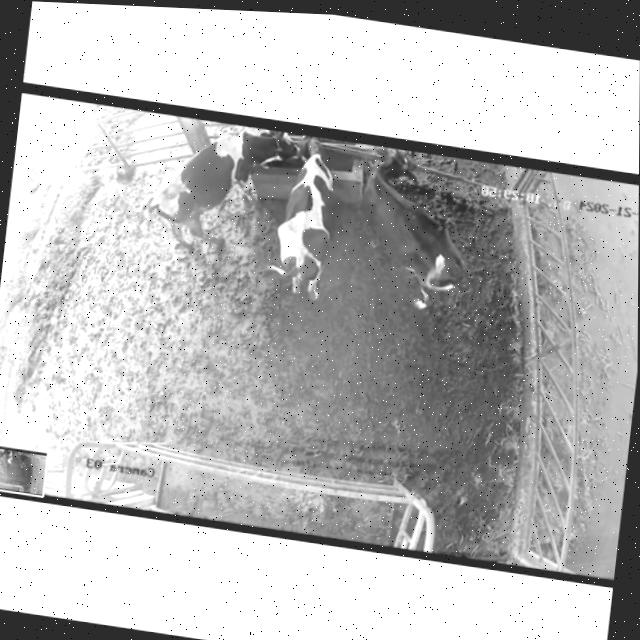drink: (291, 134, 348, 180), (245, 126, 297, 170)
stand: (351, 143, 498, 320)
